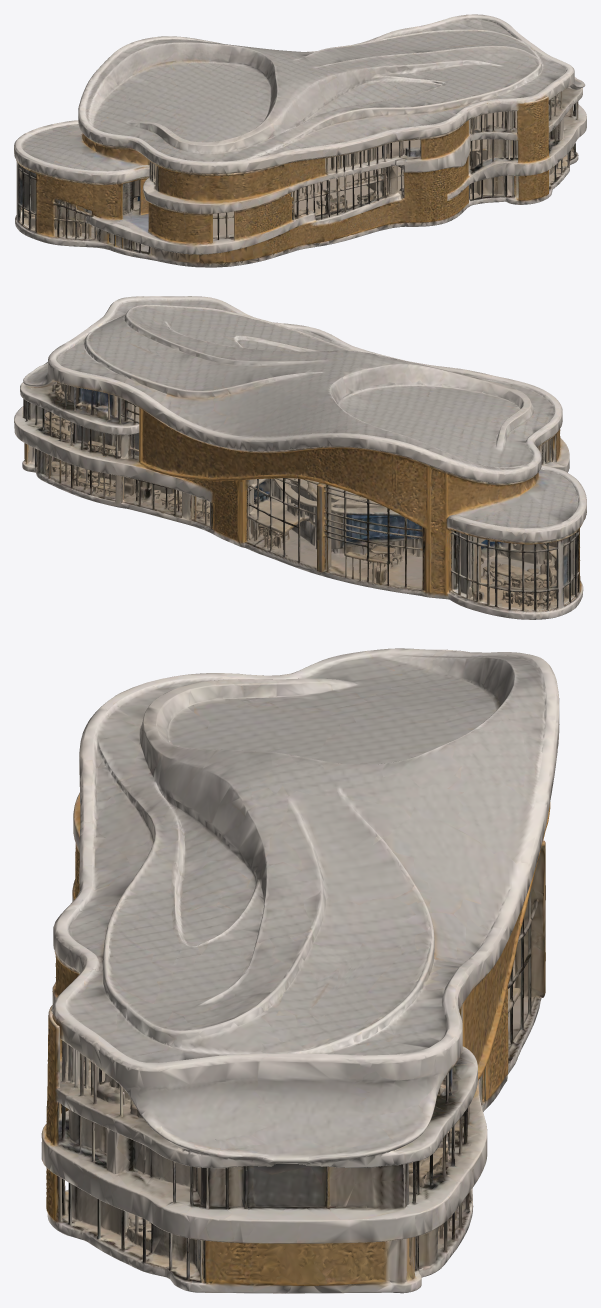
File: learning.glb
3 renders of one model, top to bottom at view 1: azimuth 30°, elevation 25°; view 2: azimuth 150°, elevation 25°; view 3: azimuth 270°, elevation 25°, orthographic. The views are drawn at different scales.
Bounding box in the file's own units: 48 × 12.37 × 21.12.
1 material, 1 textured.
